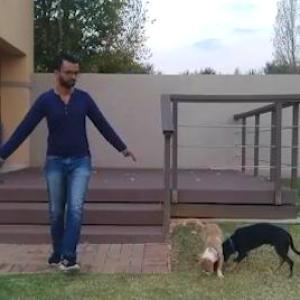land: (1, 60, 137, 272)
